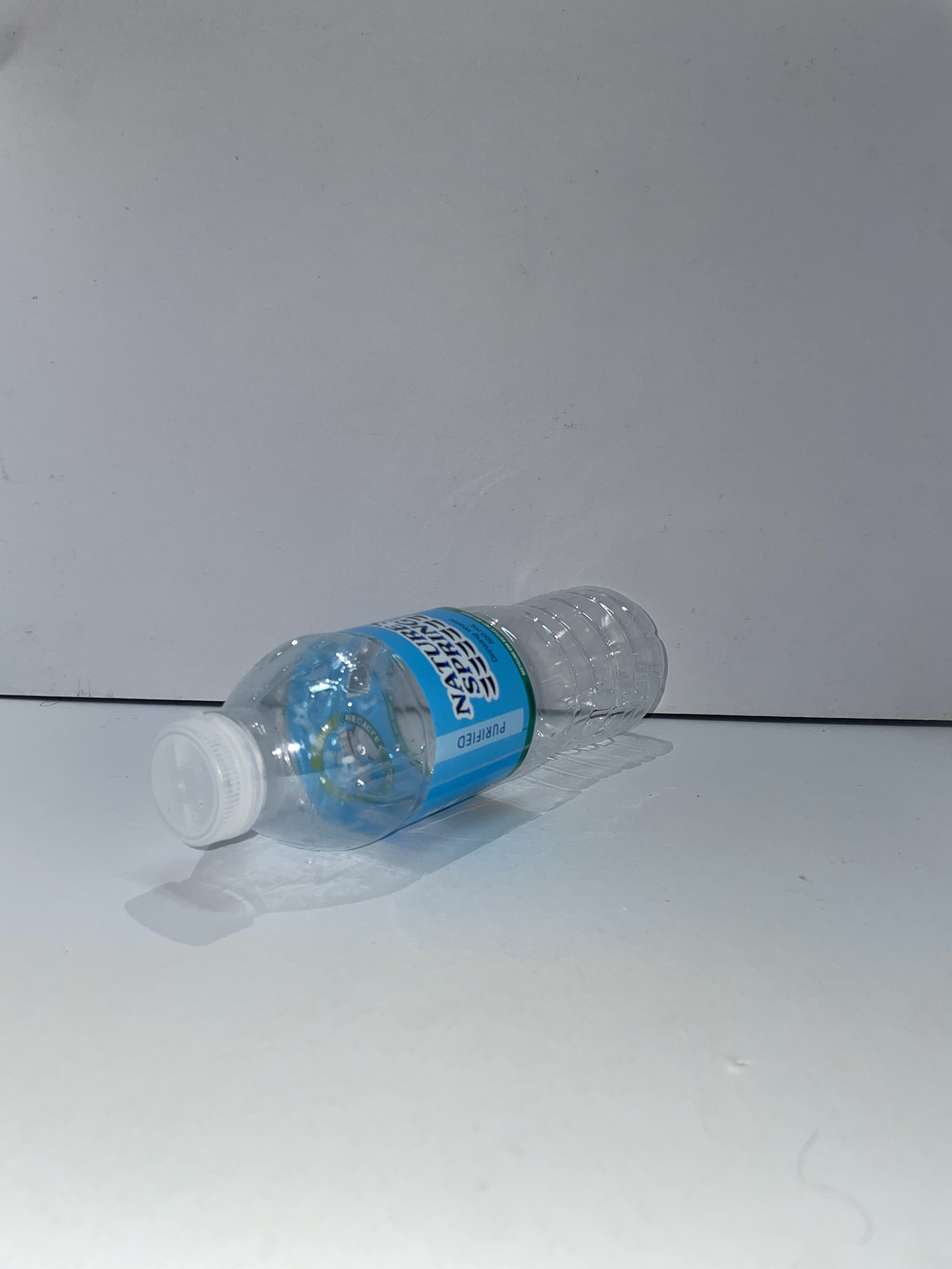natures spring 500ml: (152, 587, 667, 848)
